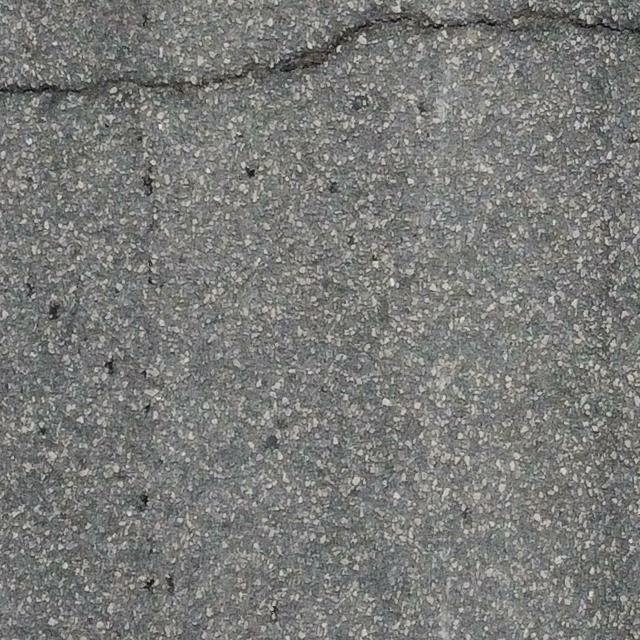TransverseCrack: (1, 1, 640, 97)
